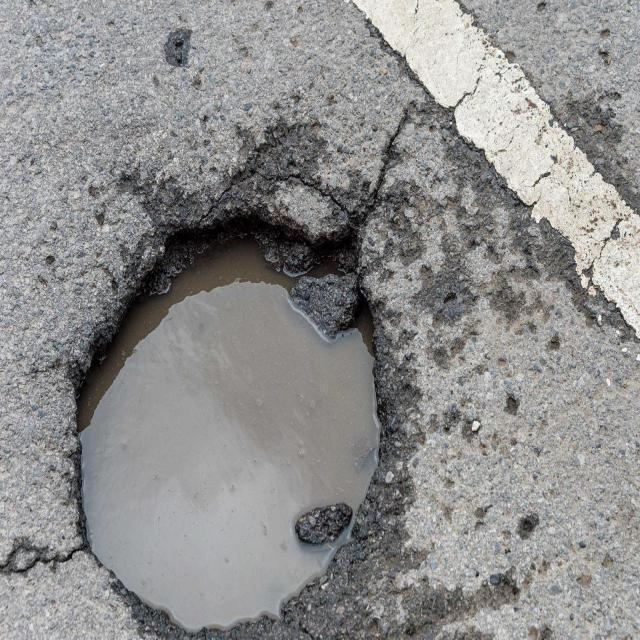Pothole: (73, 203, 410, 630)
